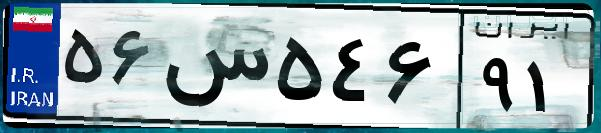1: (525, 38, 570, 115)
4: (330, 28, 385, 110)
5: (270, 28, 330, 110), (57, 26, 110, 100)
6: (385, 28, 445, 110), (110, 28, 158, 98)
9: (475, 38, 525, 113)
س: (158, 20, 270, 120)
